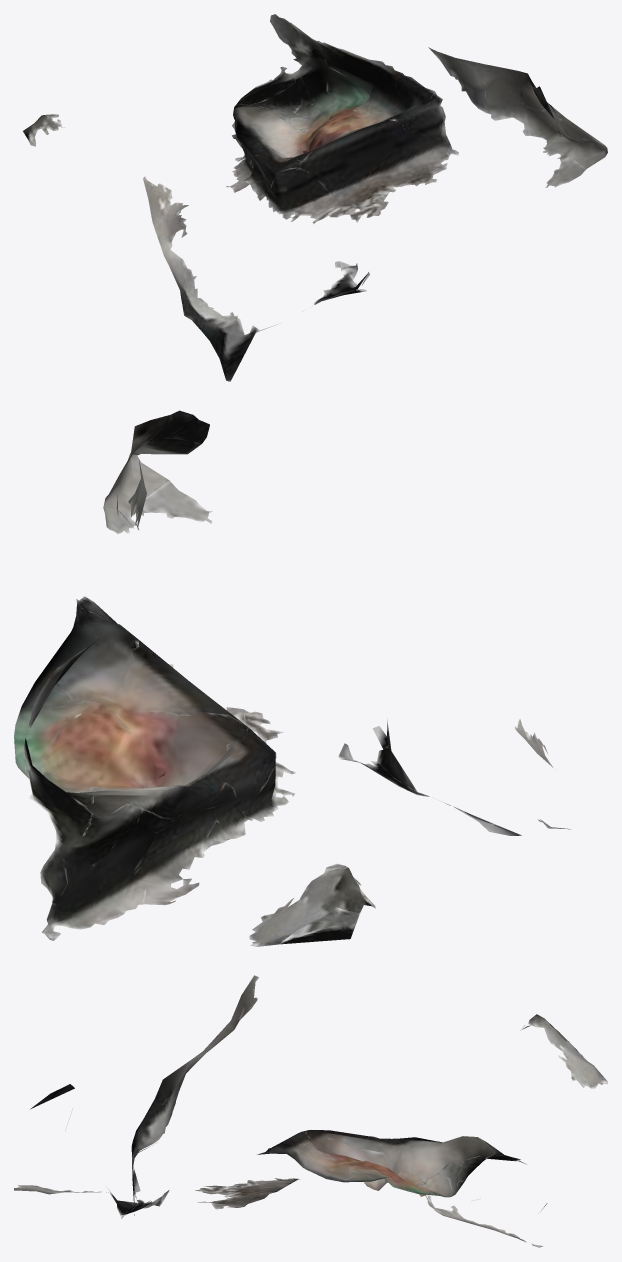
Rendered from hall.glb.
3 views of the same model, one above another, from view 1: azimuth 30°, elevation 25°; view 2: azimuth 150°, elevation 25°; view 3: azimuth 270°, elevation 25° (orthographic). The views are drawn at different scales.
Bounding box in the file's own units: 0.7784 × 0.4907 × 0.8786.
1 material, 1 textured.
